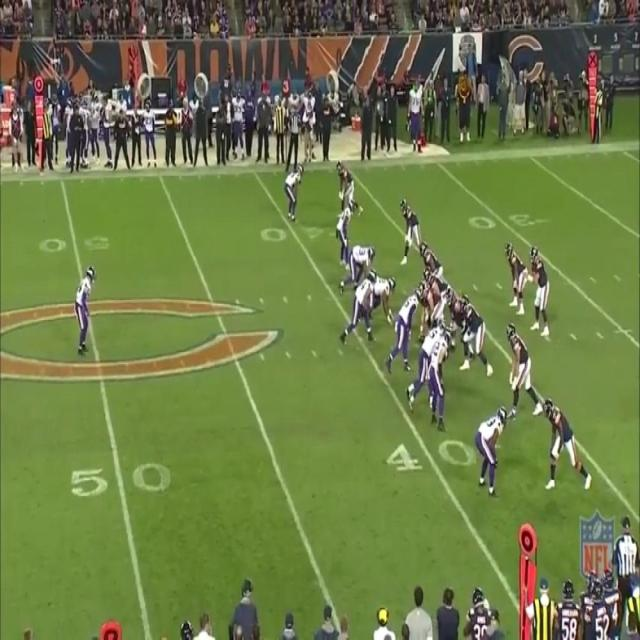center: (416, 282, 438, 322)
db: (476, 407, 507, 492), (75, 266, 97, 352), (432, 334, 447, 422), (334, 204, 354, 258), (286, 164, 304, 221)
lb: (406, 319, 450, 411), (354, 274, 379, 330), (399, 294, 412, 366)
qb: (528, 246, 548, 336)
skill: (506, 327, 538, 408), (546, 400, 578, 474), (399, 201, 422, 264), (506, 241, 520, 307), (335, 165, 359, 202)
